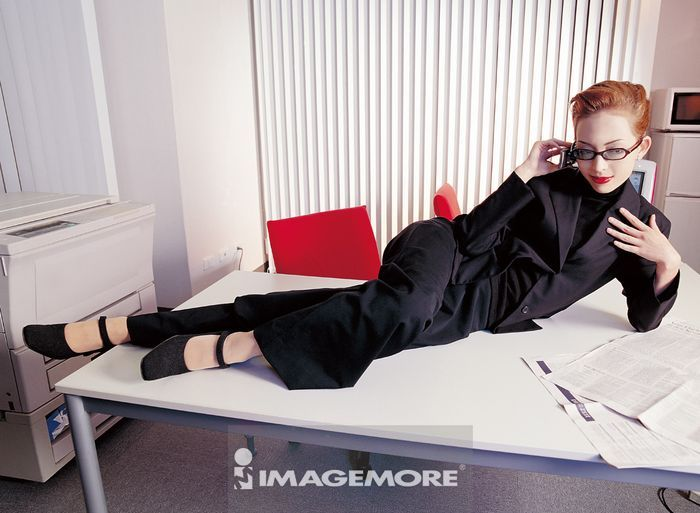talk: (521, 131, 629, 196)
